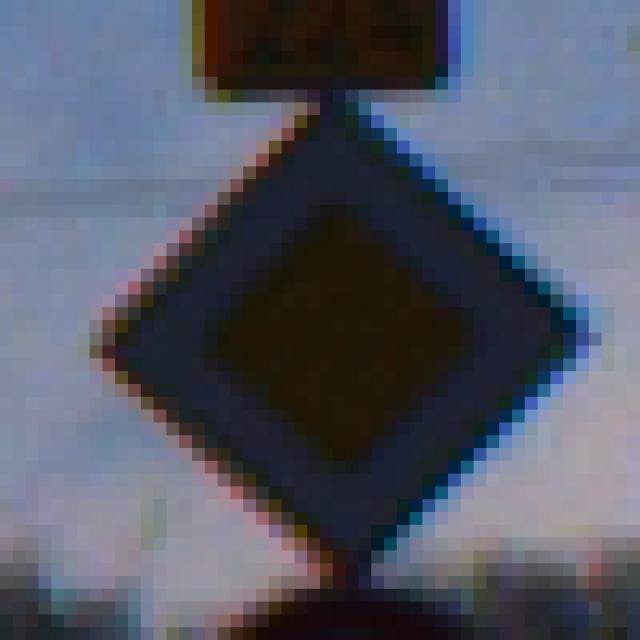Main Road: (78, 78, 577, 577)
